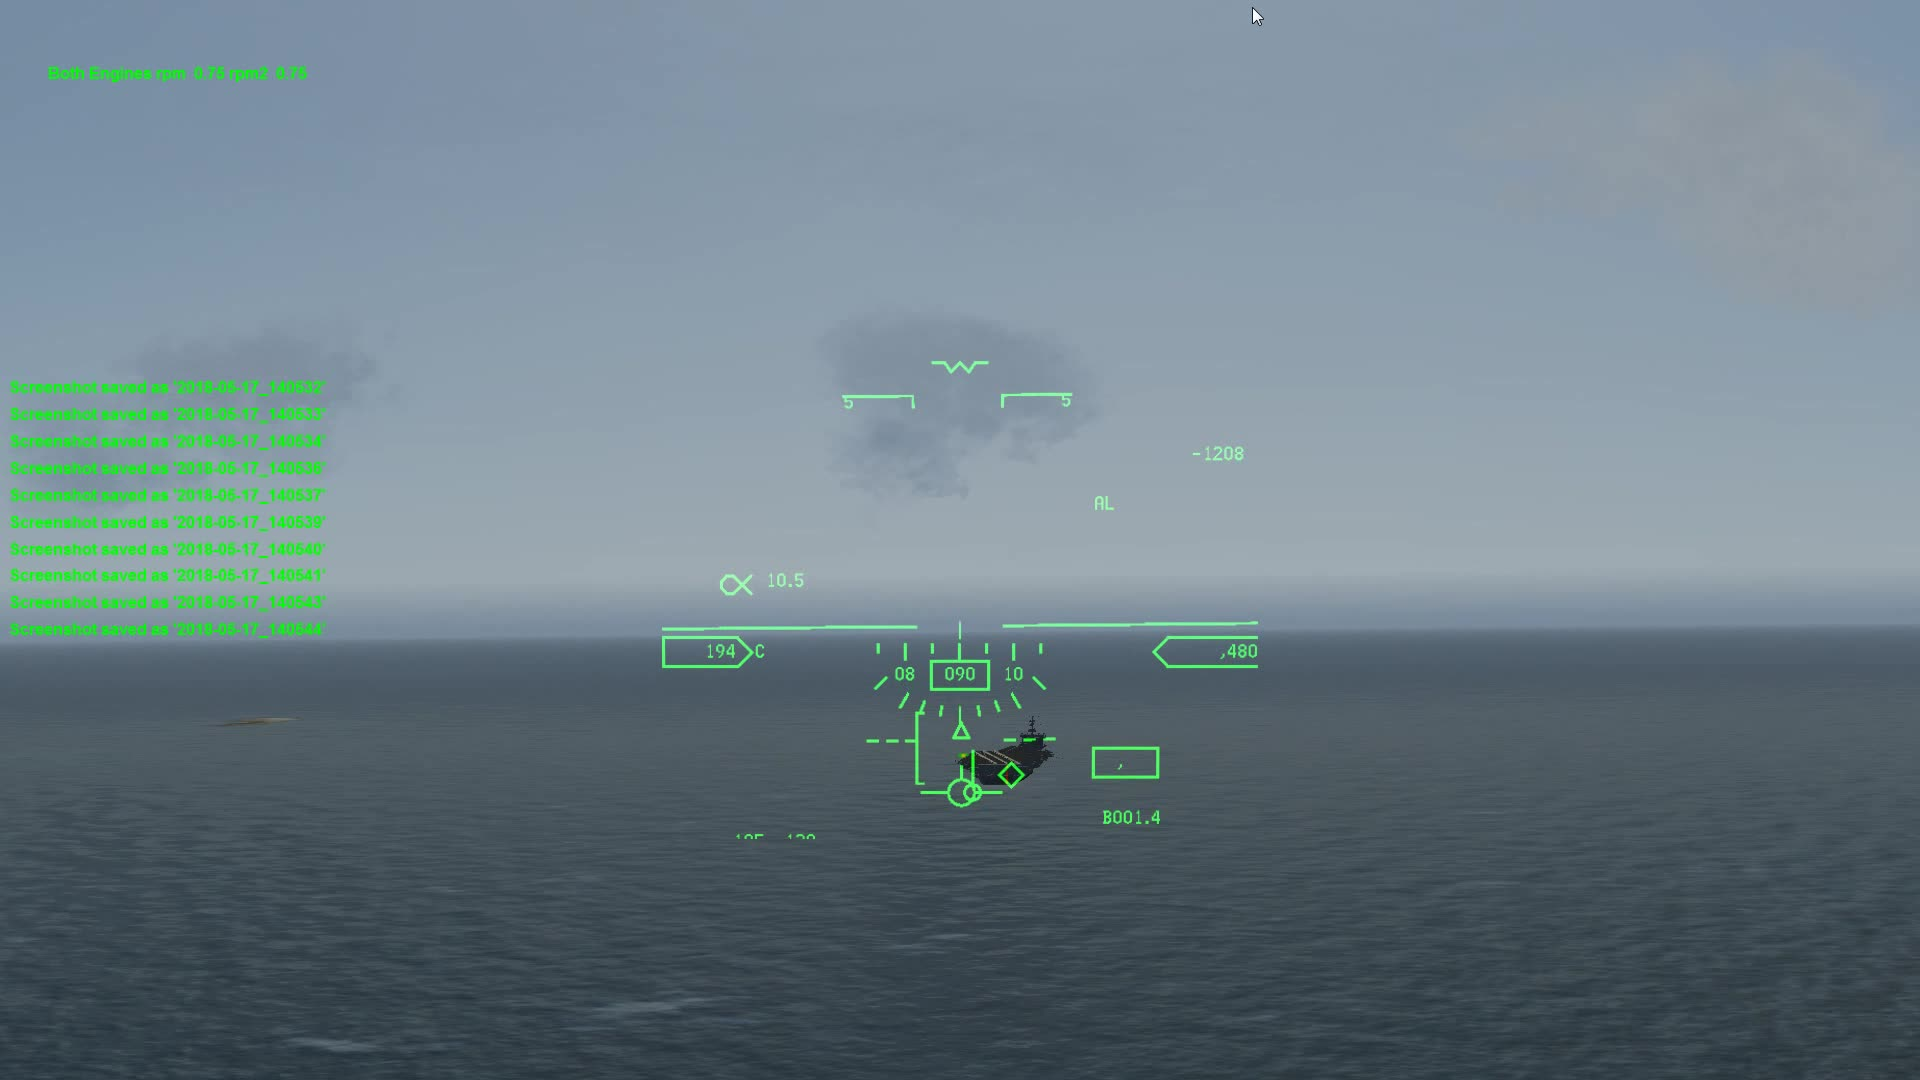speed vector: (918, 760, 998, 814)
